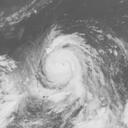cyclone: (29, 30, 96, 102)
